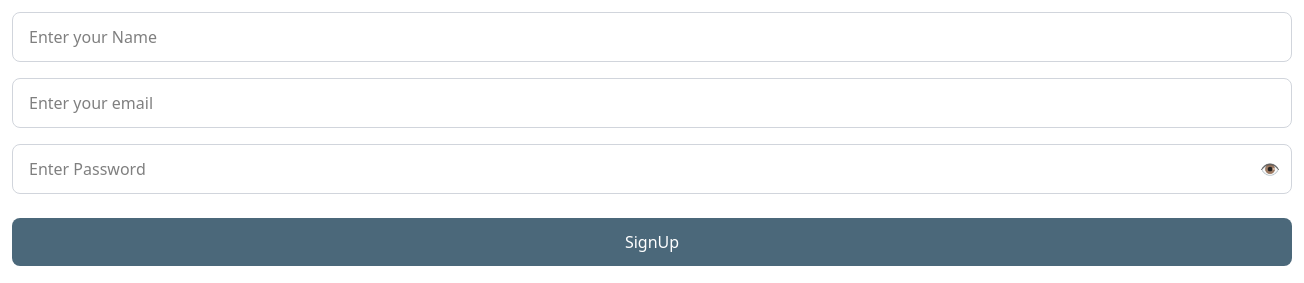
Test: AdminSignUpForm Component › should show loading state during submission
Type "admin_test" into the field with placeholder "Enter your Name" at (652, 37), box x1=12 y1=12 x2=1292 y2=62
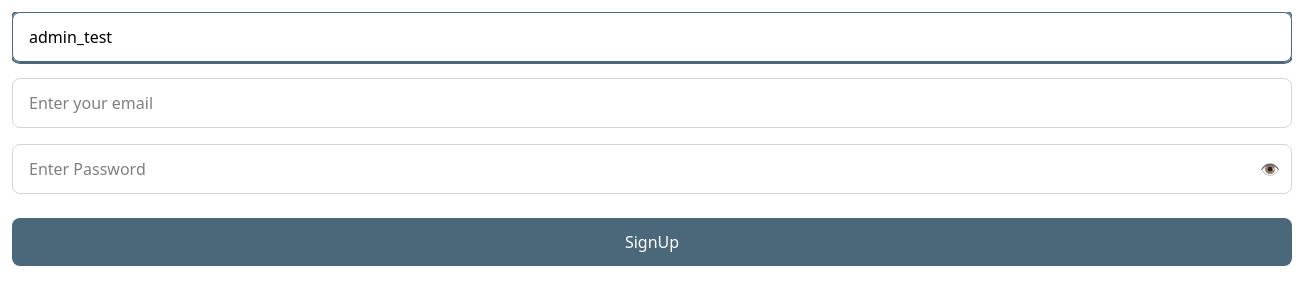
Type "admin@test.com" into the field with placeholder "Enter your email" at (652, 103), box x1=12 y1=78 x2=1292 y2=128
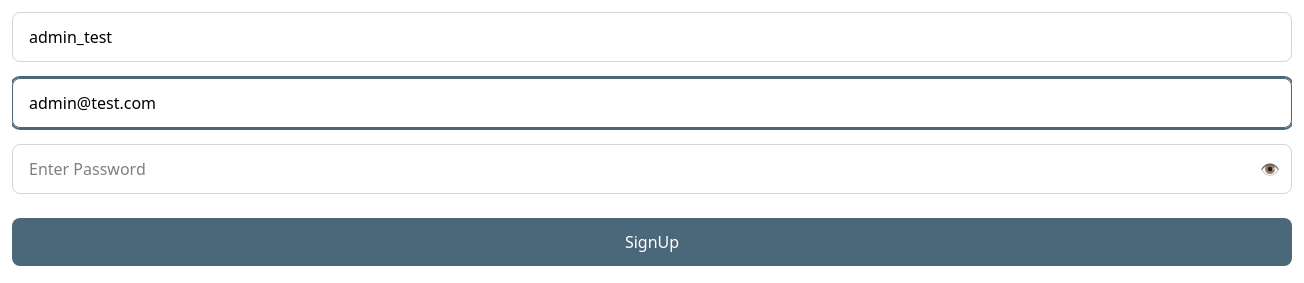
Type "AdminPass123" into the password field with placeholder "Enter Password" at (652, 169), box x1=12 y1=144 x2=1292 y2=194
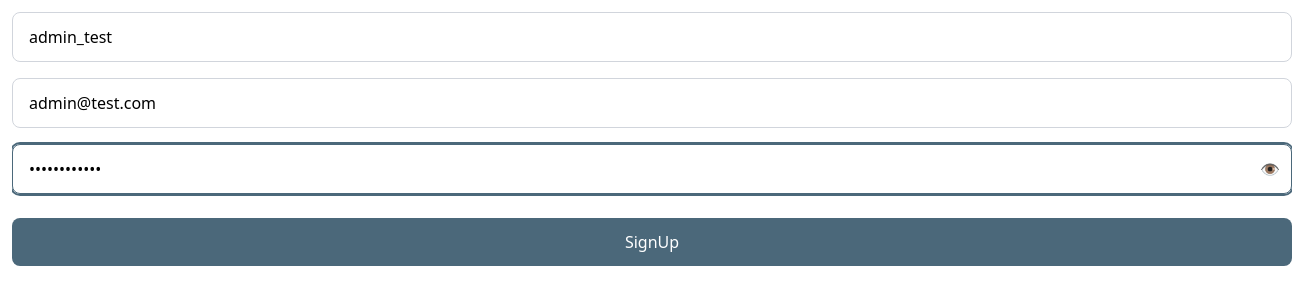
Click the button "SignUp" at (652, 242), box x1=12 y1=218 x2=1292 y2=266
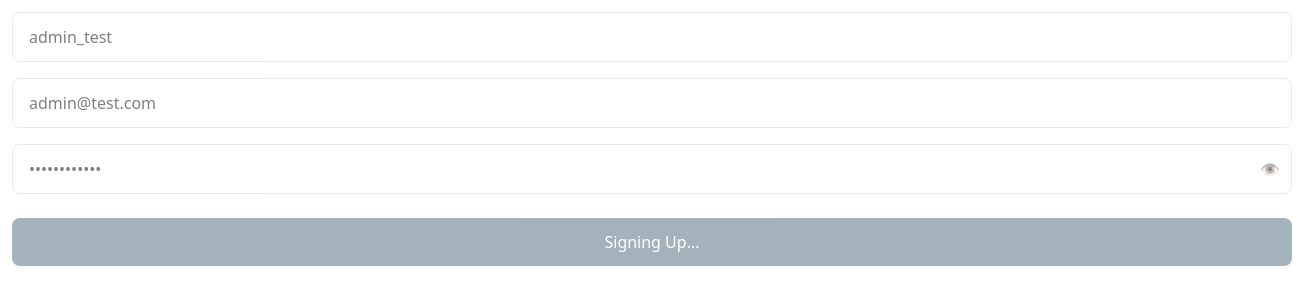
Result: the button "Signing Up..." is shown at x1=12 y1=218 x2=1292 y2=266
